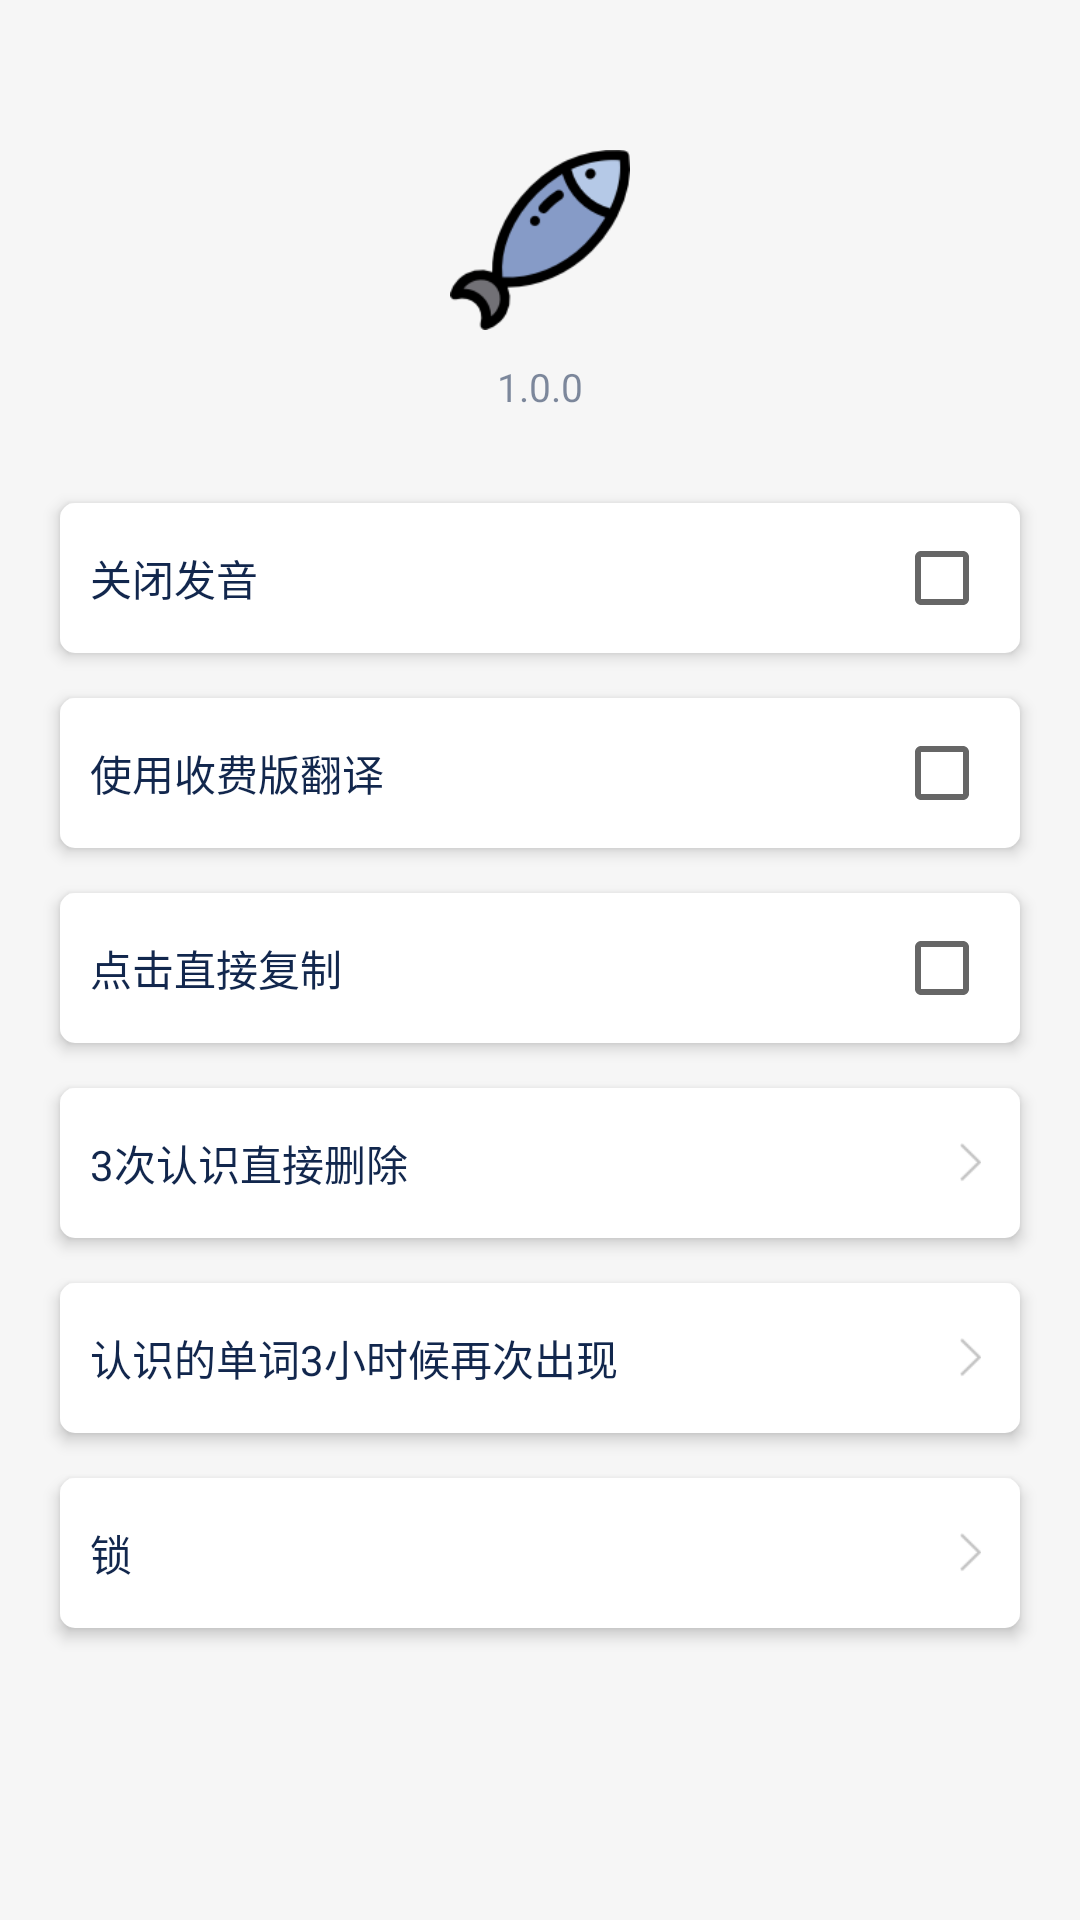

Icon click points for this 1080*1920 phone screenshot, format (x,y):
fish: (540,240)
forward: (971,1162), (971,1357), (971,1552)
